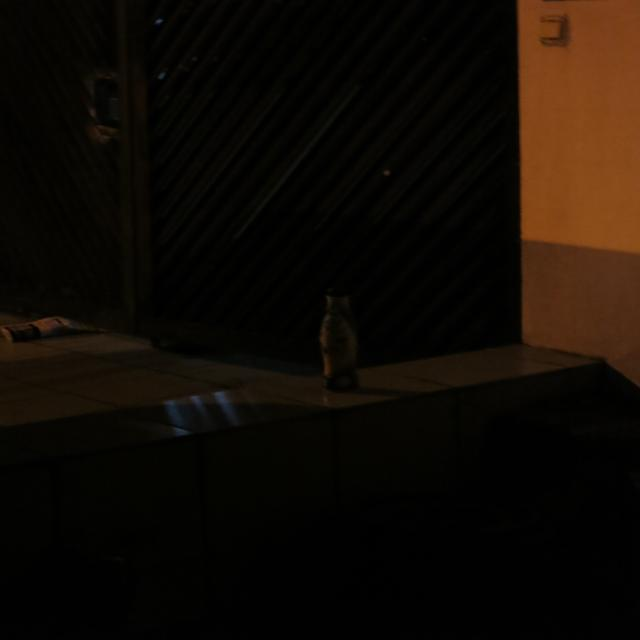Bottle: (303, 296, 402, 405)
